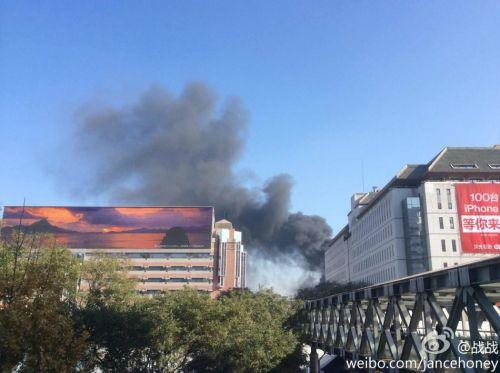smoke: (102, 83, 328, 250)
